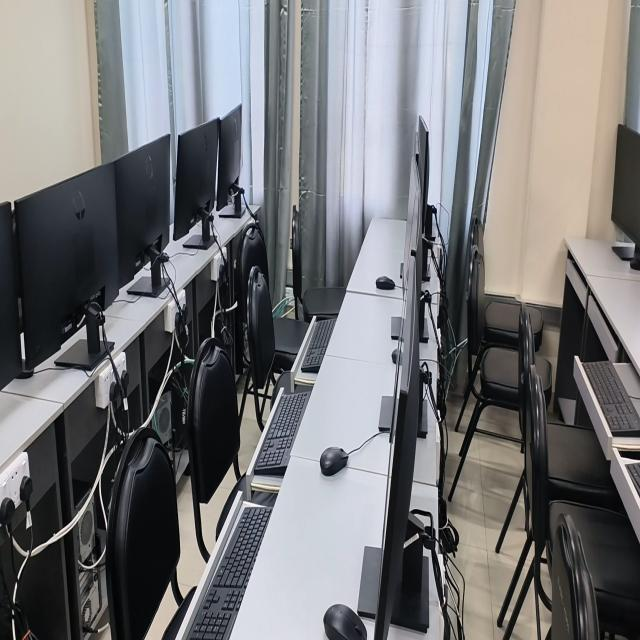Chair: (525, 365, 640, 639), (448, 244, 520, 500), (105, 428, 180, 639), (186, 338, 251, 562), (498, 305, 535, 626), (240, 267, 289, 431), (290, 205, 346, 323), (548, 423, 622, 510), (552, 513, 600, 639), (236, 223, 269, 348), (270, 316, 309, 372), (481, 296, 521, 349), (536, 359, 552, 405), (531, 308, 543, 351), (472, 218, 481, 255)
Cpu: (77, 501, 104, 633), (152, 392, 171, 443)
Keyboard: (186, 504, 272, 639), (253, 391, 311, 475), (582, 361, 640, 437), (301, 319, 335, 373), (627, 463, 640, 495)
Monitor: (15, 163, 119, 368), (374, 257, 421, 639), (113, 137, 170, 286), (174, 119, 220, 246), (611, 126, 640, 270), (0, 203, 22, 390), (216, 105, 241, 210), (404, 155, 421, 288), (415, 116, 429, 233), (611, 419, 616, 425)
Mouse: (323, 605, 367, 639), (319, 446, 348, 476), (376, 276, 395, 290)
